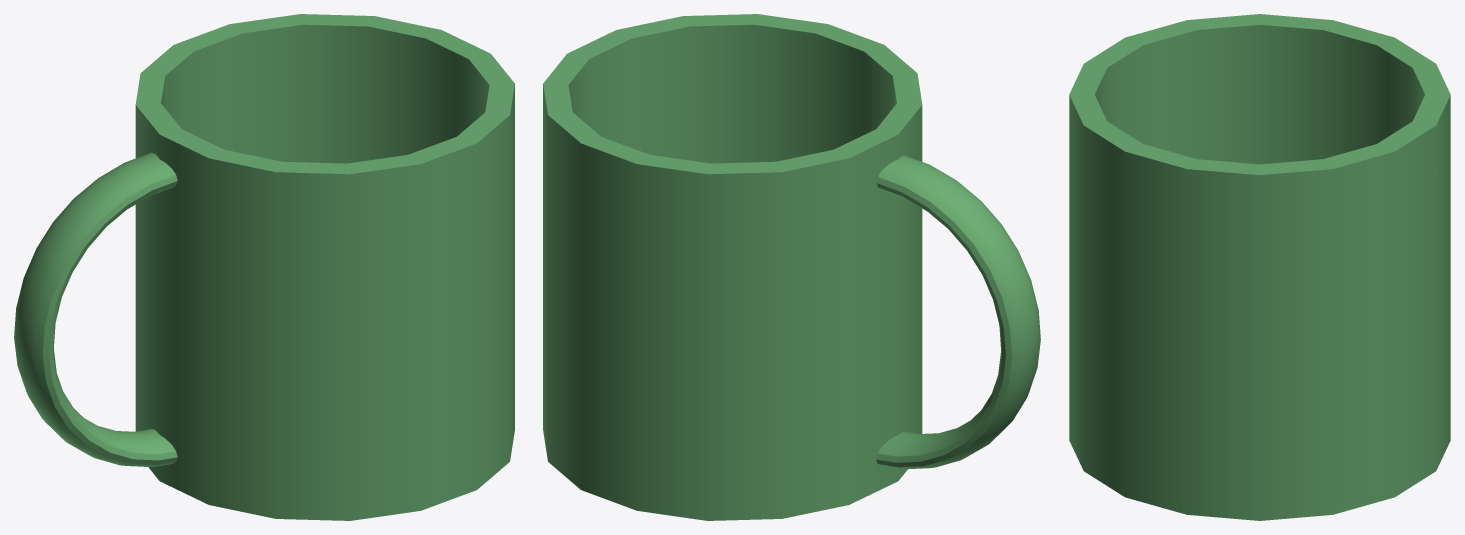
Rendered from TazaVerde.fbx.
3 renders of one model, left to right at view 1: azimuth 30°, elevation 25°; view 2: azimuth 150°, elevation 25°; view 3: azimuth 270°, elevation 25°, orthographic.
Parts seen in each view (by area): view 1: taza; view 2: taza; view 3: taza.
Boxes of the visible parts, x1,y1,x2,y2 form: taza: (14, 14, 514, 520); taza: (543, 14, 1040, 520); taza: (1069, 14, 1450, 520).
Bounding box in the file's own units: 15.38 × 10.88 × 10.88.
